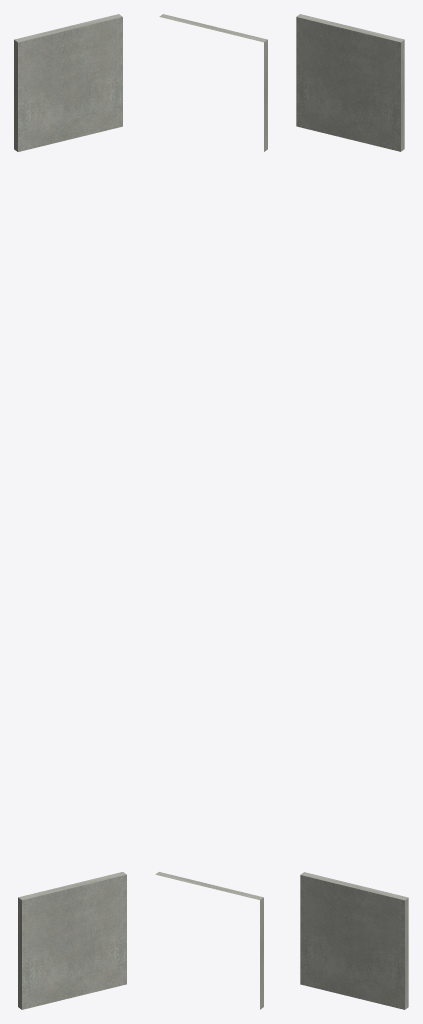
Rendered from jc-sj-029-geode.glb.
3 renders of one model, left to right at view 1: azimuth 30°, elevation 25°; view 2: azimuth 150°, elevation 25°; view 3: azimuth 330°, elevation 25°, orthographic.
Visible parts, largest first — view 1: Node; view 2: Node; view 3: Node.
Part boxes in pixels (bbox=[...]): Node: bbox=[14, 14, 126, 1009]; Node: bbox=[155, 14, 267, 1009]; Node: bbox=[296, 14, 408, 1009].
Bounding box in the file's own units: 0.5298 × 4.5 × 0.033.
Materials: 1 (1 with a texture image).
